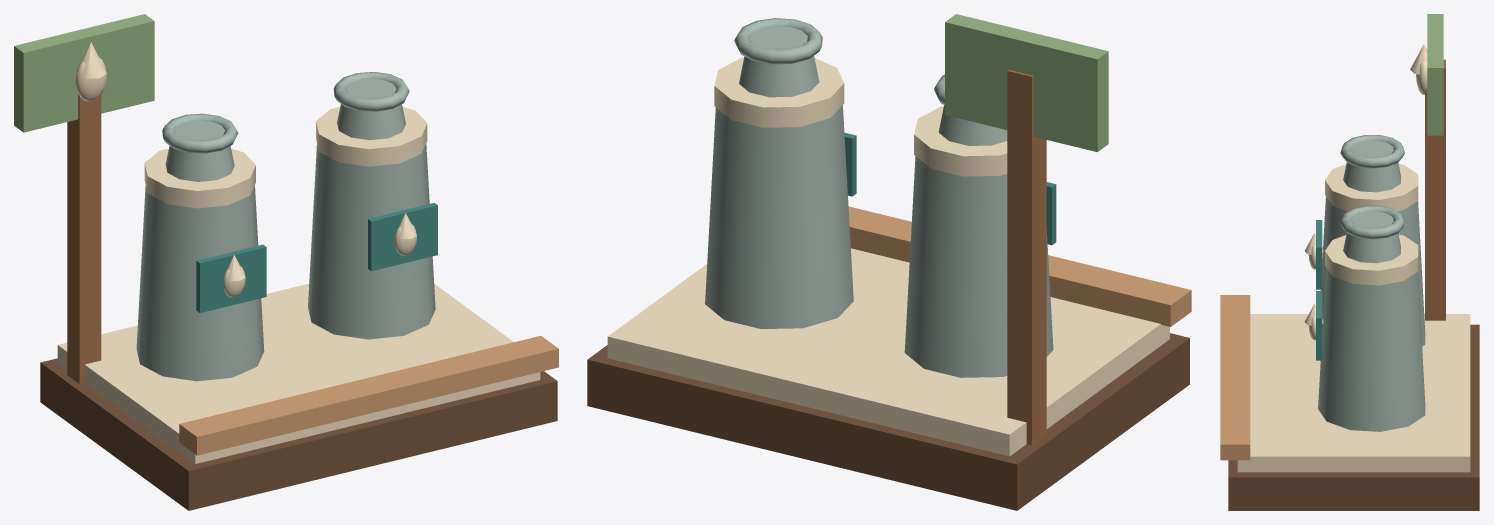
The model's file is milk-collection.glb.
3 renders of one model, left to right at view 1: azimuth 30°, elevation 25°; view 2: azimuth 150°, elevation 25°; view 3: azimuth 270°, elevation 25°, orthographic. The views are drawn at different scales.
Visible parts, largest first — view 1: milk-collection_metal, milk-collection_cream, milk-collection_woodDark, milk-collection_woodLight, milk-collection_sage, milk-collection_wood, milk-collection_teal; view 2: milk-collection_metal, milk-collection_cream, milk-collection_woodDark, milk-collection_sage, milk-collection_wood, milk-collection_woodLight, milk-collection_teal; view 3: milk-collection_cream, milk-collection_metal, milk-collection_woodDark, milk-collection_woodLight, milk-collection_wood, milk-collection_sage, milk-collection_teal.
Part boxes in pixels (left/top/right/bottom): milk-collection_metal: left=136, top=72, right=435, bottom=381; milk-collection_cream: left=57, top=42, right=540, bottom=463; milk-collection_woodDark: left=40, top=358, right=557, bottom=510; milk-collection_woodLight: left=179, top=336, right=558, bottom=455; milk-collection_sage: left=14, top=14, right=154, bottom=132; milk-collection_wood: left=67, top=94, right=101, bottom=384; milk-collection_teal: left=196, top=202, right=437, bottom=312; milk-collection_metal: left=705, top=18, right=1053, bottom=377; milk-collection_cream: left=607, top=57, right=1169, bottom=456; milk-collection_woodDark: left=587, top=333, right=1189, bottom=510; milk-collection_sage: left=945, top=14, right=1108, bottom=152; milk-collection_wood: left=1007, top=70, right=1046, bottom=445; milk-collection_woodLight: left=848, top=206, right=1191, bottom=326; milk-collection_teal: left=844, top=132, right=1056, bottom=245; milk-collection_cream: left=1237, top=44, right=1470, bottom=472; milk-collection_metal: left=1318, top=135, right=1425, bottom=431; milk-collection_woodDark: left=1228, top=324, right=1479, bottom=510; milk-collection_woodLight: left=1220, top=295, right=1250, bottom=460; milk-collection_wood: left=1425, top=59, right=1445, bottom=320; milk-collection_sage: left=1427, top=14, right=1443, bottom=135; milk-collection_teal: left=1316, top=220, right=1322, bottom=360.
Size of the model in its own units: 1.75 by 1.54 by 1.12.
